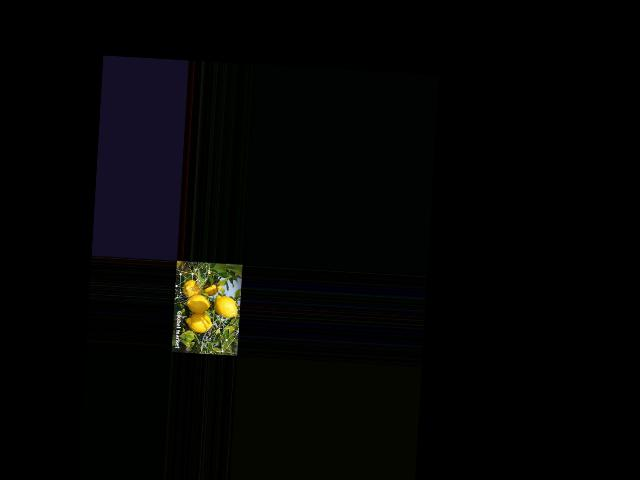lemon: (212, 294, 240, 318)
